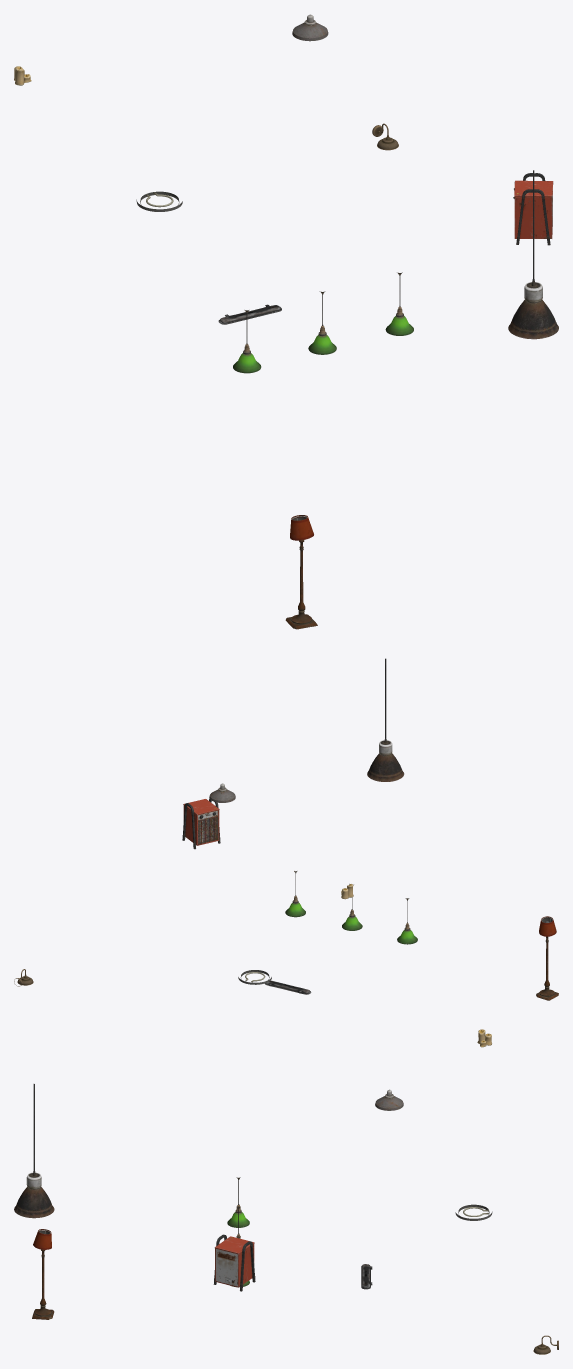
File: apartment large lighting.glb
The picture shows the model from 3 angles, top to bottom: view 1: azimuth 30°, elevation 25°; view 2: azimuth 150°, elevation 25°; view 3: azimuth 270°, elevation 25°; orthographic projection. The views are drawn at different scales.
Parts seen in each view (by area): view 1: heater_floor_standing (1), mesh (plight ceiling), apartment_light_d1; view 2: heater_floor_standing (1), mesh (plight ceiling), apartment_light_d1; view 3: heater_floor_standing (1), mesh (plight ceiling), apartment_light_d1.
Boxes of the visible parts, x1=… form: heater_floor_standing (1): x1=513, y1=173, x2=553, y2=245; mesh (plight ceiling): x1=508, y1=170, x2=558, y2=339; apartment_light_d1: x1=285, y1=515, x2=317, y2=629; heater_floor_standing (1): x1=182, y1=798, x2=220, y2=849; mesh (plight ceiling): x1=367, y1=658, x2=404, y2=781; apartment_light_d1: x1=536, y1=916, x2=558, y2=1000; heater_floor_standing (1): x1=213, y1=1234, x2=255, y2=1291; mesh (plight ceiling): x1=14, y1=1084, x2=54, y2=1218; apartment_light_d1: x1=32, y1=1229, x2=54, y2=1319.
Size of the model in its own units: 6.89 by 6.28 by 9.7.
Materials: 14 (14 with a texture image).
